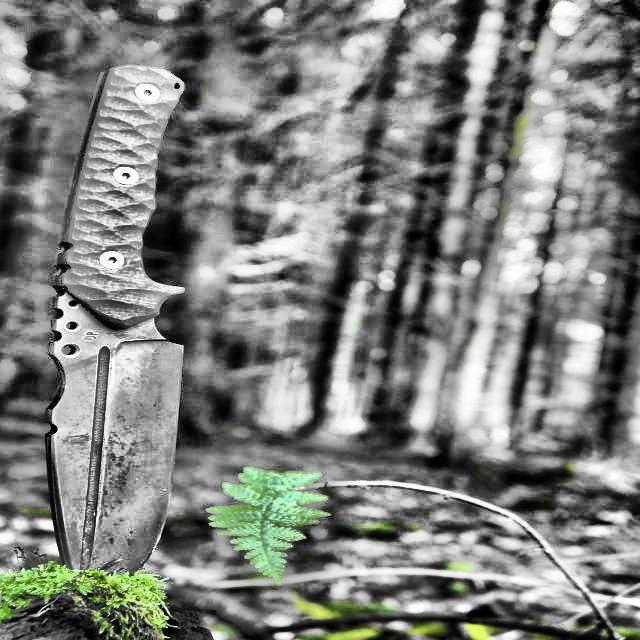knife: (36, 56, 192, 582)
